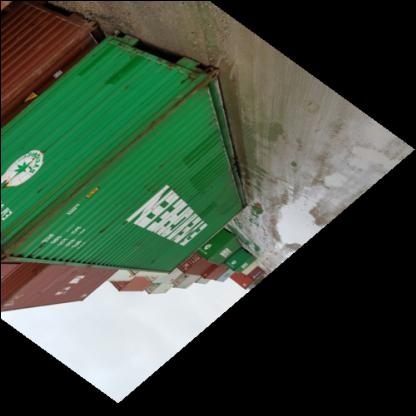Damage: (3, 151, 135, 230), (127, 86, 212, 145)
